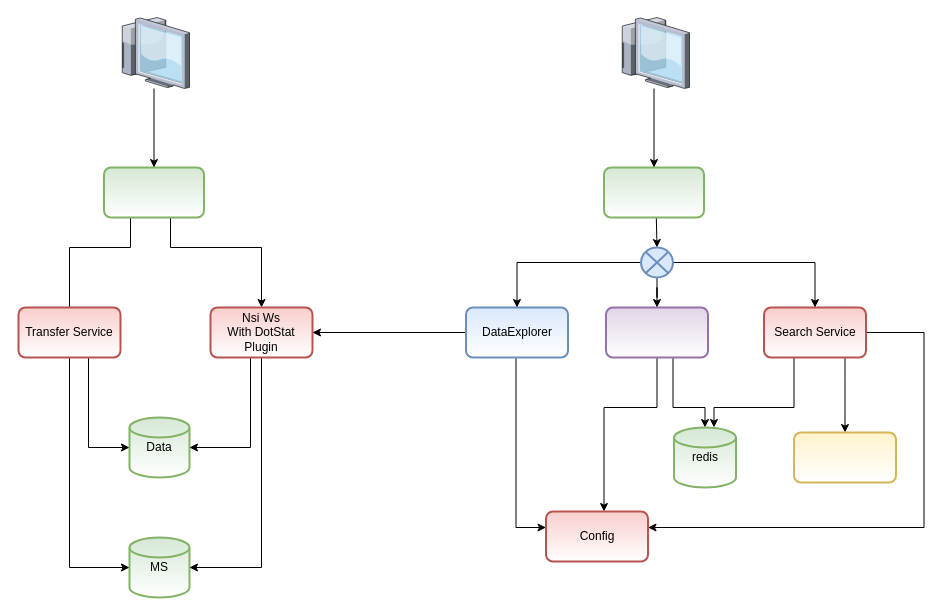
Image size: 949x615. Some labels were removed from this diagram. The box of each missing label's shape, as (x1, y1, x2, y2) in pixels:
DLM: (102, 166, 204, 218)
Proxy: (602, 166, 704, 218)
Share Service: (604, 306, 708, 358)
SOLR: (792, 431, 896, 483)
